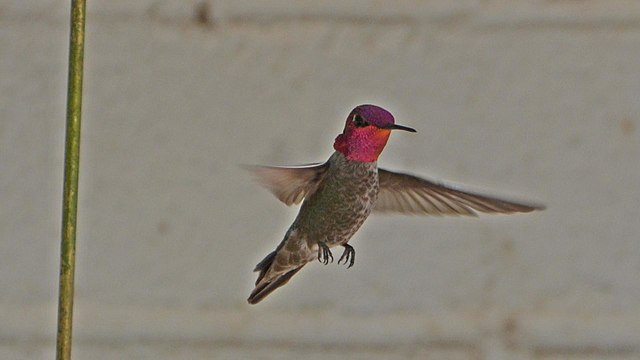calypte anna: (239, 103, 545, 309)
